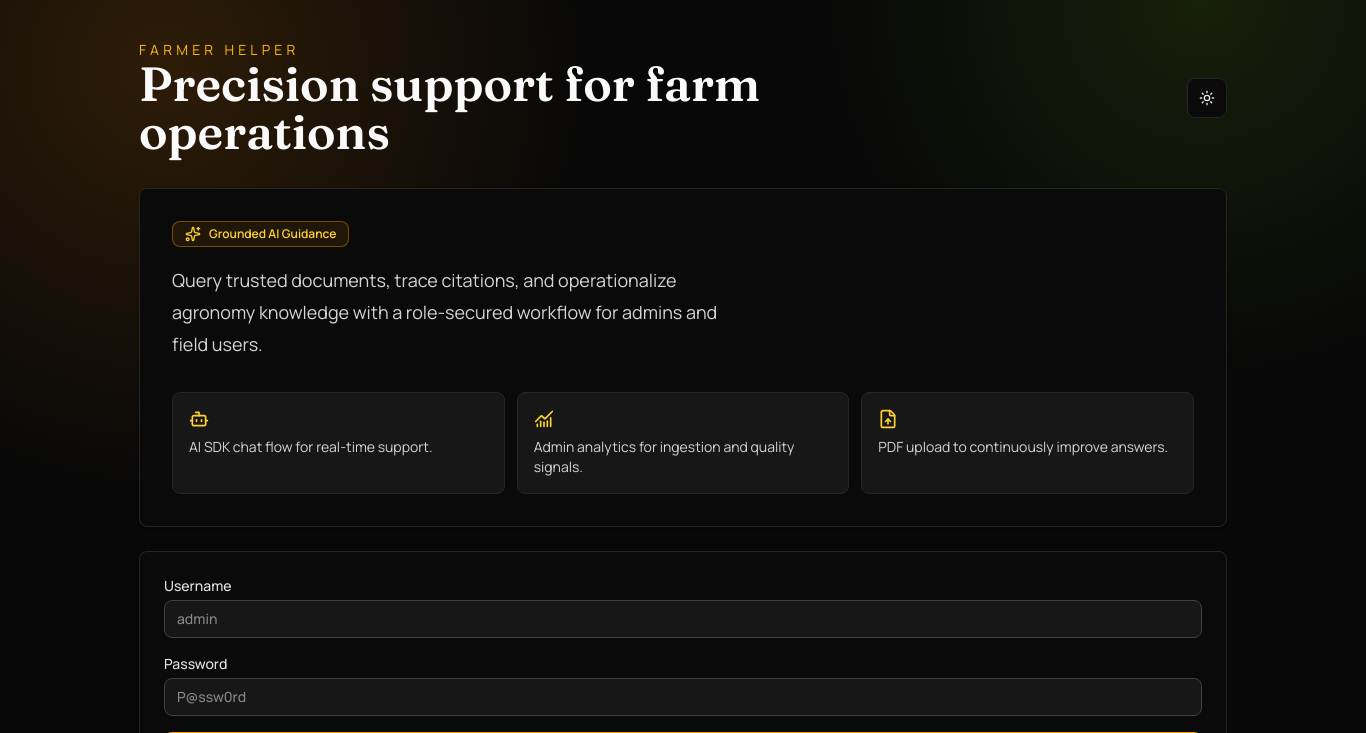
Test case: App › defaults to dark theme and toggles to light mode
The width and height of the screenshot is (1366, 733).
Click the button named "Switch to light theme" at {"x": 1207, "y": 98}, box [1187, 78, 1227, 118]
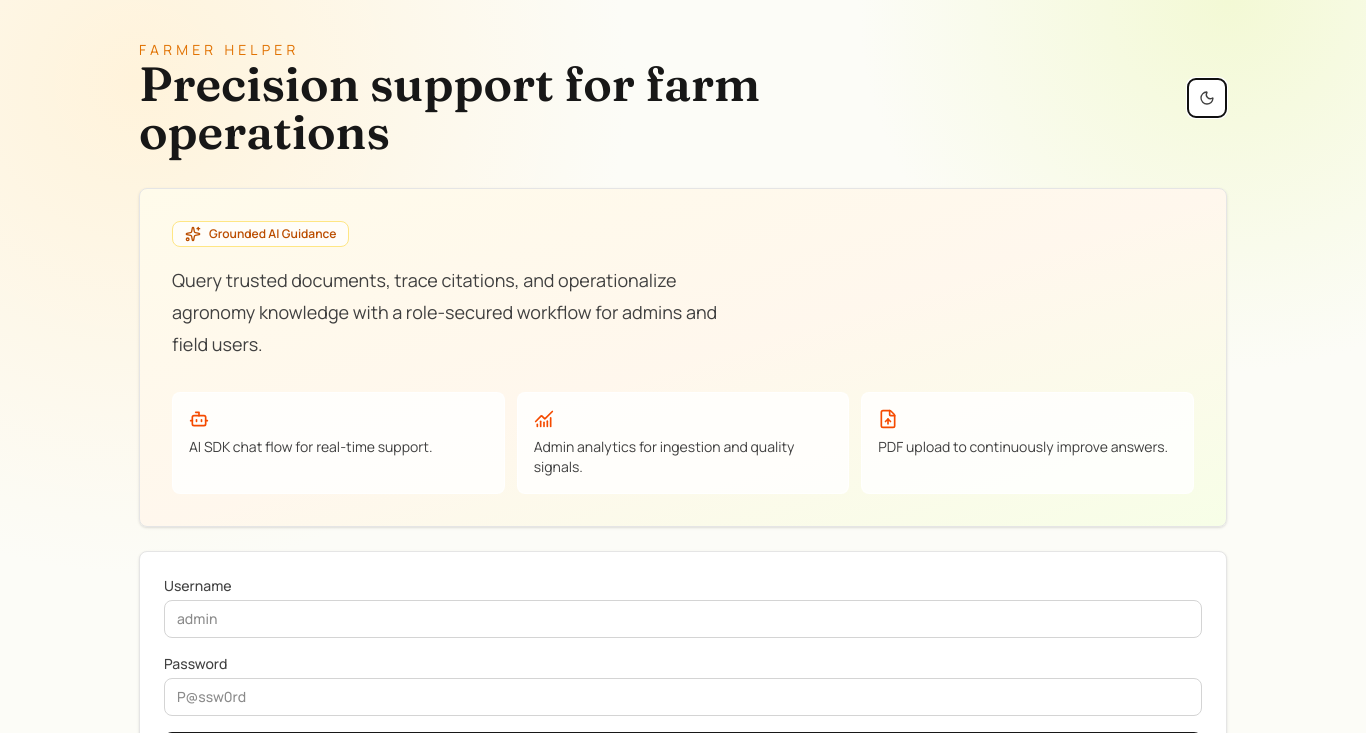
expect the button named "Switch to dark theme" is shown: met, box [1187, 78, 1227, 118]
